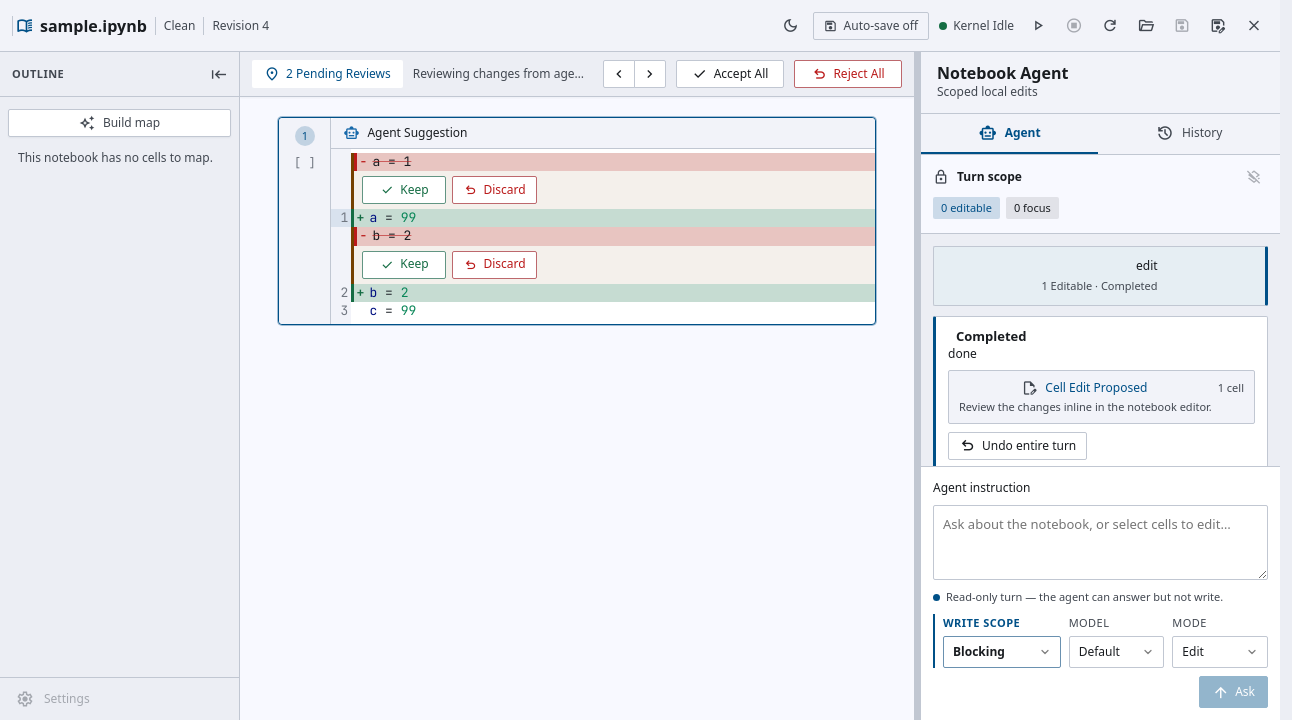
Scenario: per-operation review › clears the cell header immediately after keeping every change
Click the button "Accept All" at (730, 74), box [676, 60, 784, 88]
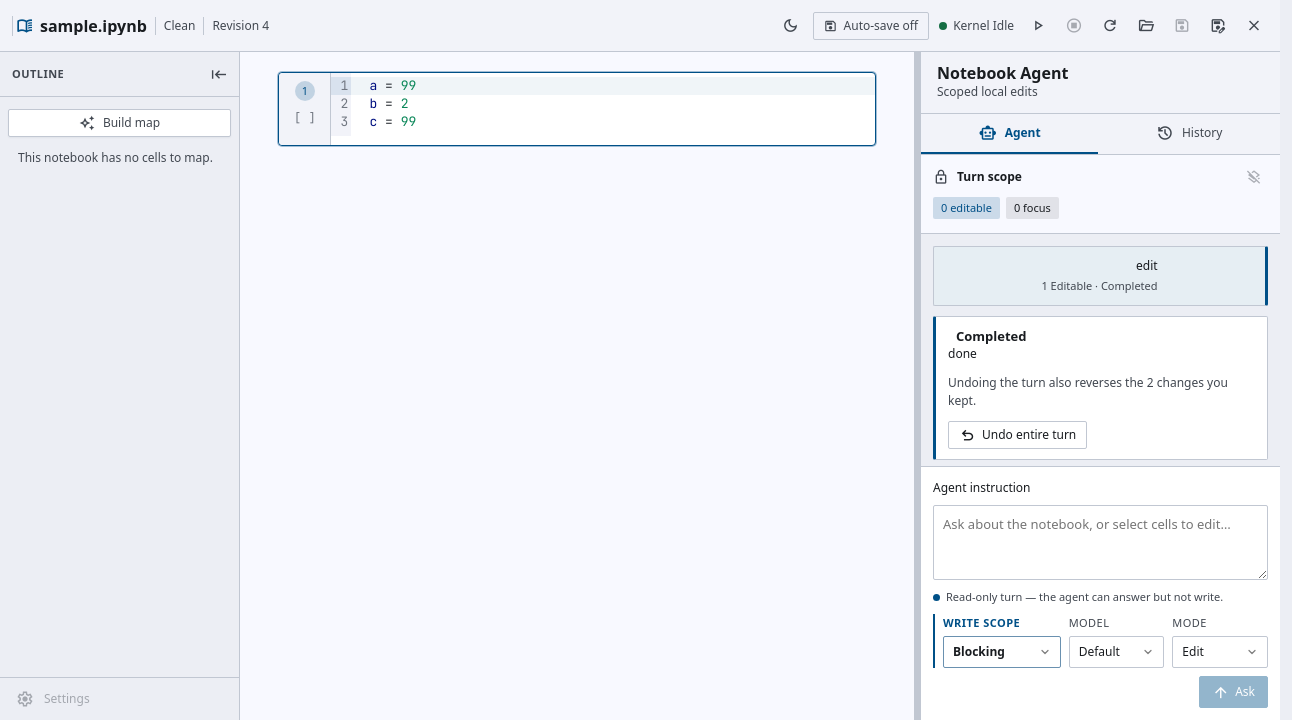
Check: the text "Agent Suggestion" is gone
